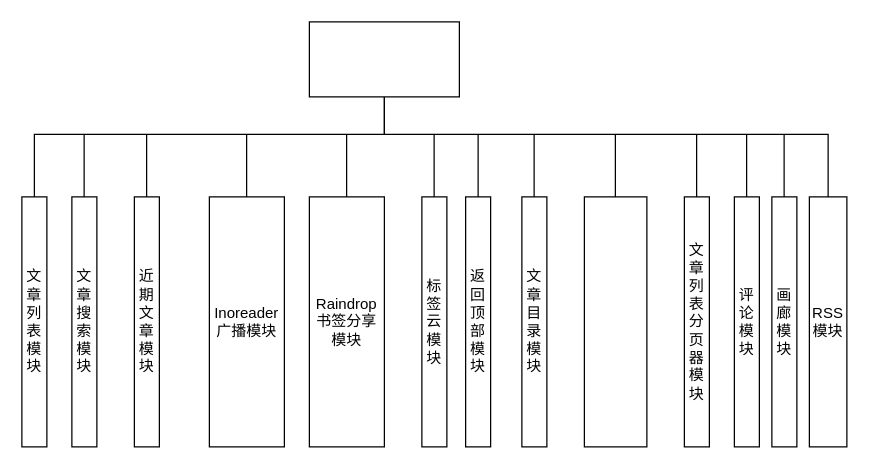
Some shapes in this 869 by 469 pixel diagram are drawn without their labels. Each missing label, with the box of its shape:
chatgpt总结摘要模块: (583, 196, 647, 447)
前台功能模块图: (308, 21, 459, 97)
